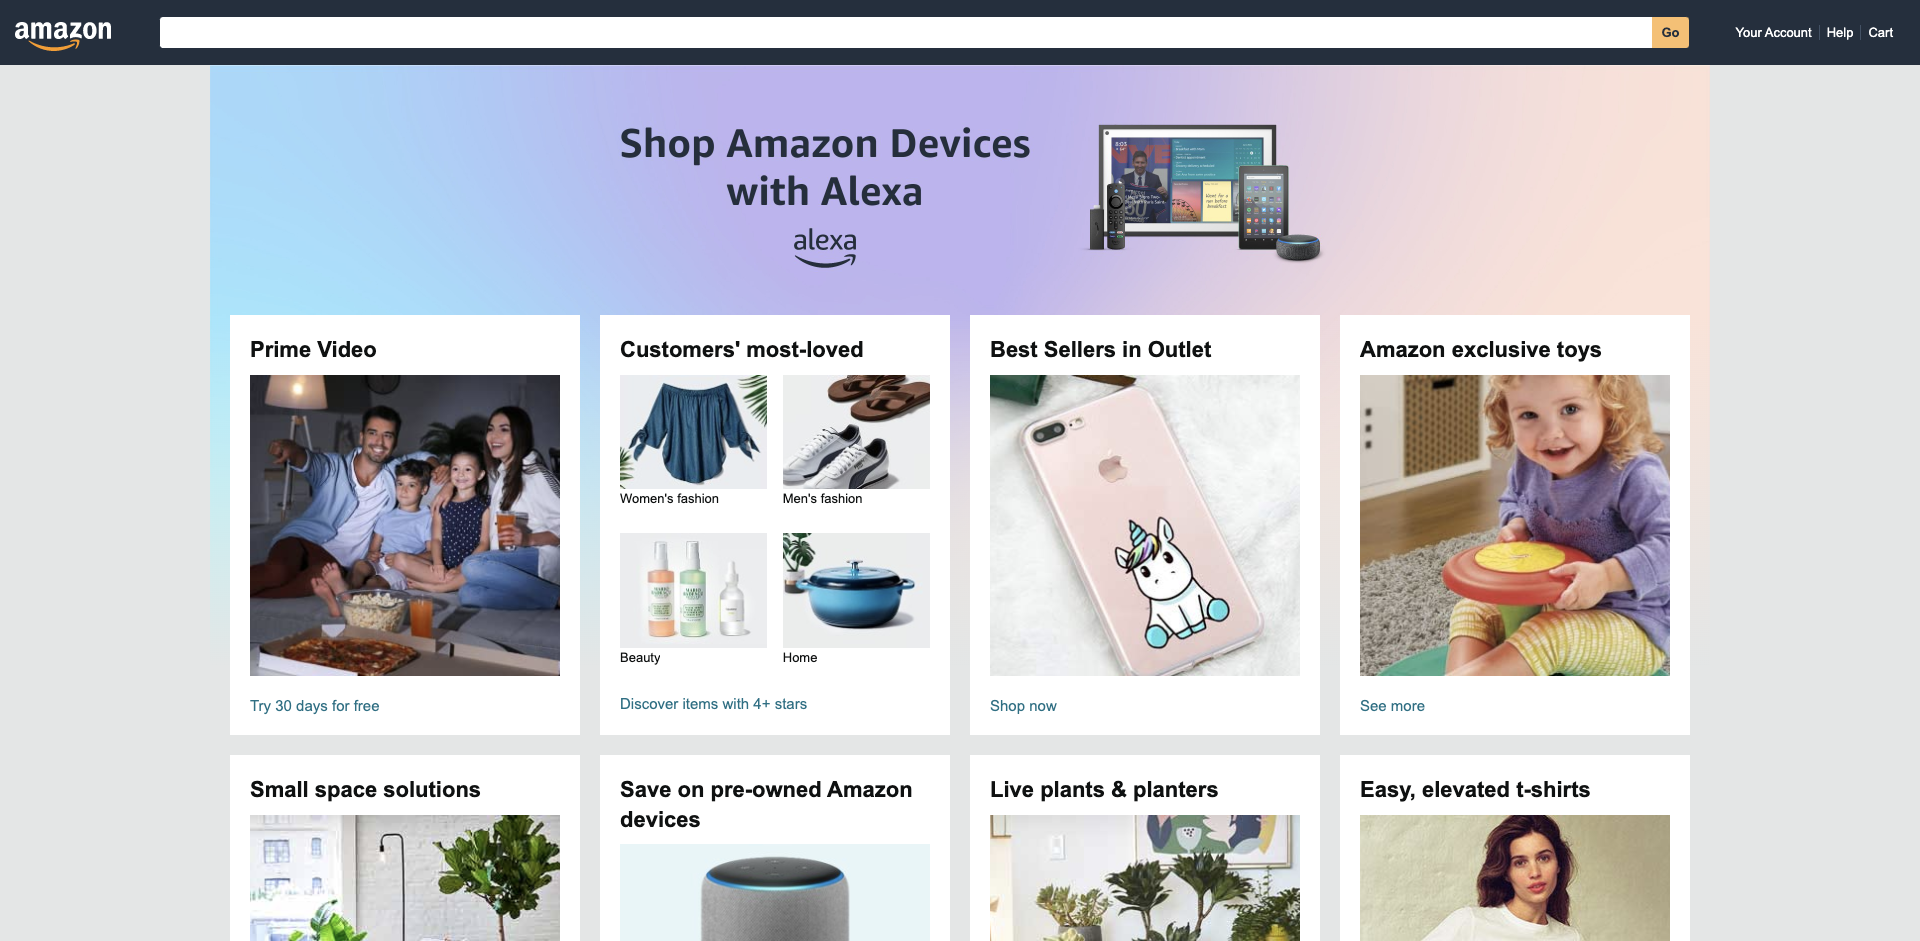button: (211, 65, 1709, 665), (1653, 17, 1689, 48)
input: (160, 25, 1653, 40)
link: (211, 65, 1920, 365), (230, 375, 580, 720), (970, 375, 1320, 720), (1340, 375, 1690, 720), (230, 815, 580, 941), (970, 815, 1320, 941), (1340, 815, 1690, 941), (600, 844, 950, 941), (620, 533, 768, 648), (782, 533, 931, 648), (620, 375, 768, 489), (782, 375, 931, 489), (620, 692, 931, 716), (10, 21, 120, 56), (1729, 25, 1818, 40), (1818, 25, 1861, 40), (1861, 25, 1900, 40)
